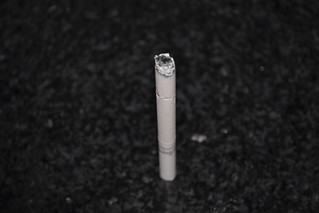cigarette: (152, 51, 182, 182)
